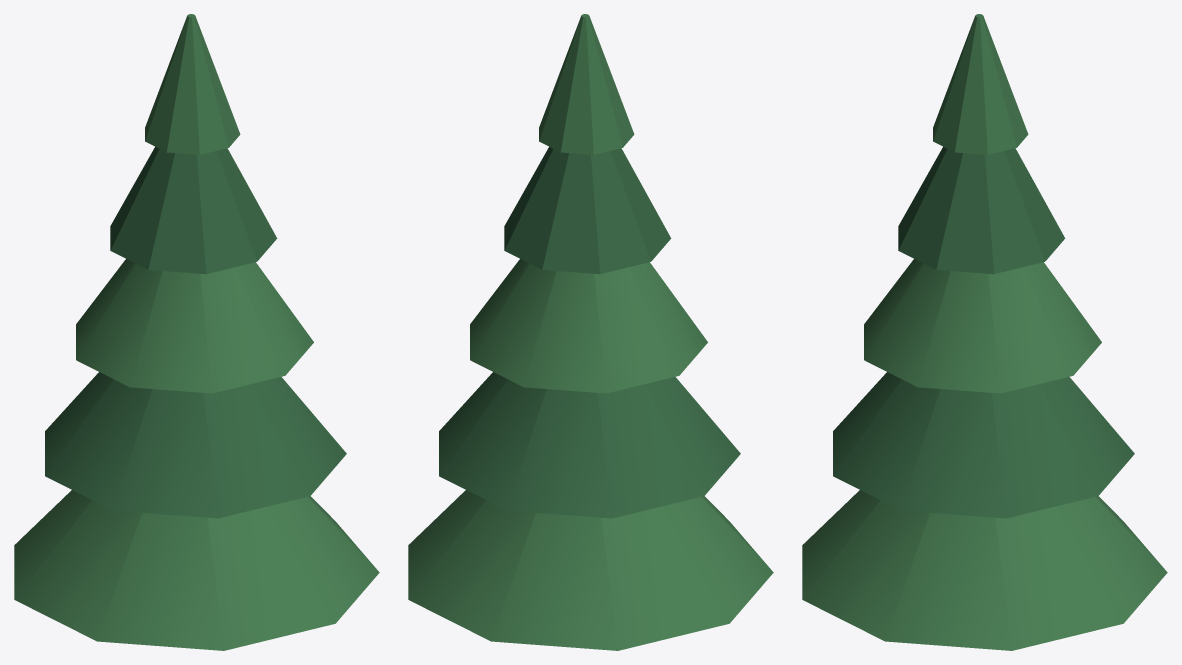
The model's file is pine.glb.
3 views of the same model, side by side, from view 1: azimuth 30°, elevation 25°; view 2: azimuth 150°, elevation 25°; view 3: azimuth 270°, elevation 25° (orthographic).
Visible parts, largest first — view 1: Pine; view 2: Pine; view 3: Pine.
Part boxes in pixels (bbox=[...]): Pine: bbox=[14, 14, 379, 650]; Pine: bbox=[408, 14, 773, 650]; Pine: bbox=[802, 14, 1167, 650].
Size of what is drawn, in the model's own units: 4.53 by 7.8 by 4.46.
